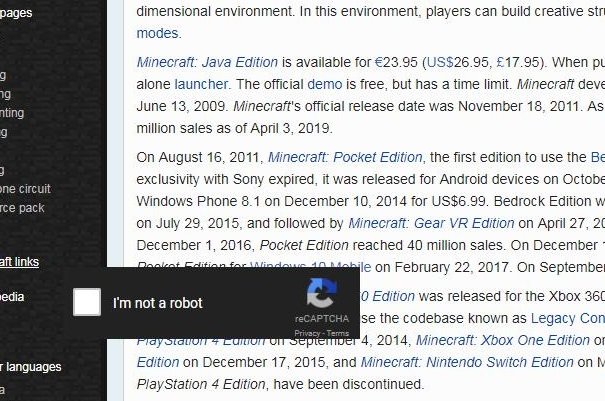captcha: (72, 287, 203, 316)
